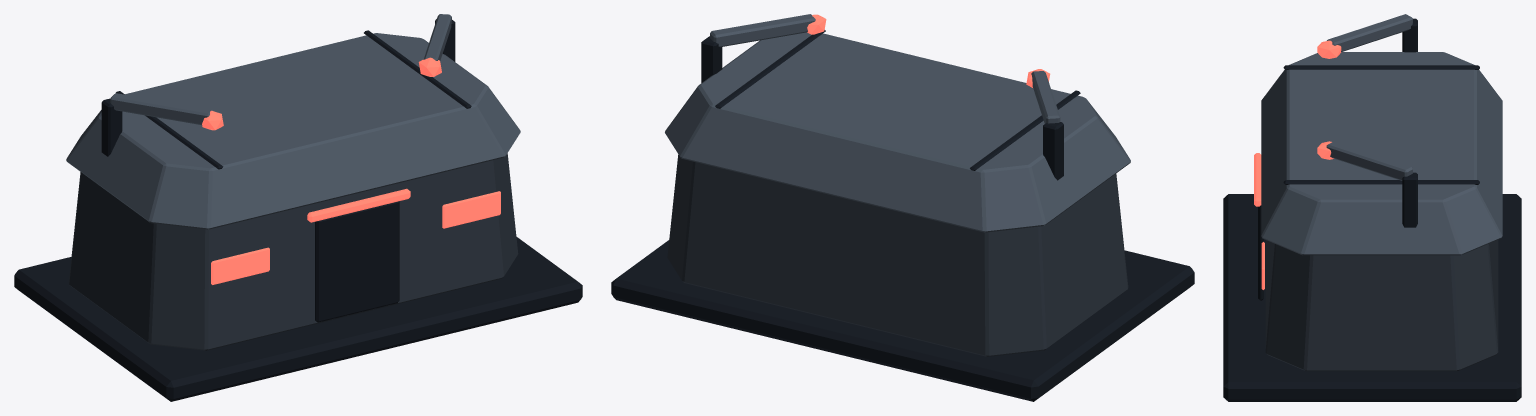
Rendered from m_barracks.glb.
3 views of the same model, side by side, from view 1: azimuth 30°, elevation 25°; view 2: azimuth 150°, elevation 25°; view 3: azimuth 270°, elevation 25° (orthographic). The views are drawn at different scales.
Parts seen in each view (by area): view 1: Barracks; view 2: Barracks; view 3: Barracks.
Part boxes in pixels (<box>): Barracks: <box>14,14,582,401</box>; Barracks: <box>611,14,1194,401</box>; Barracks: <box>1223,14,1521,401</box>.
Size of the model in its own units: 5.8 by 3.05 by 3.8.
